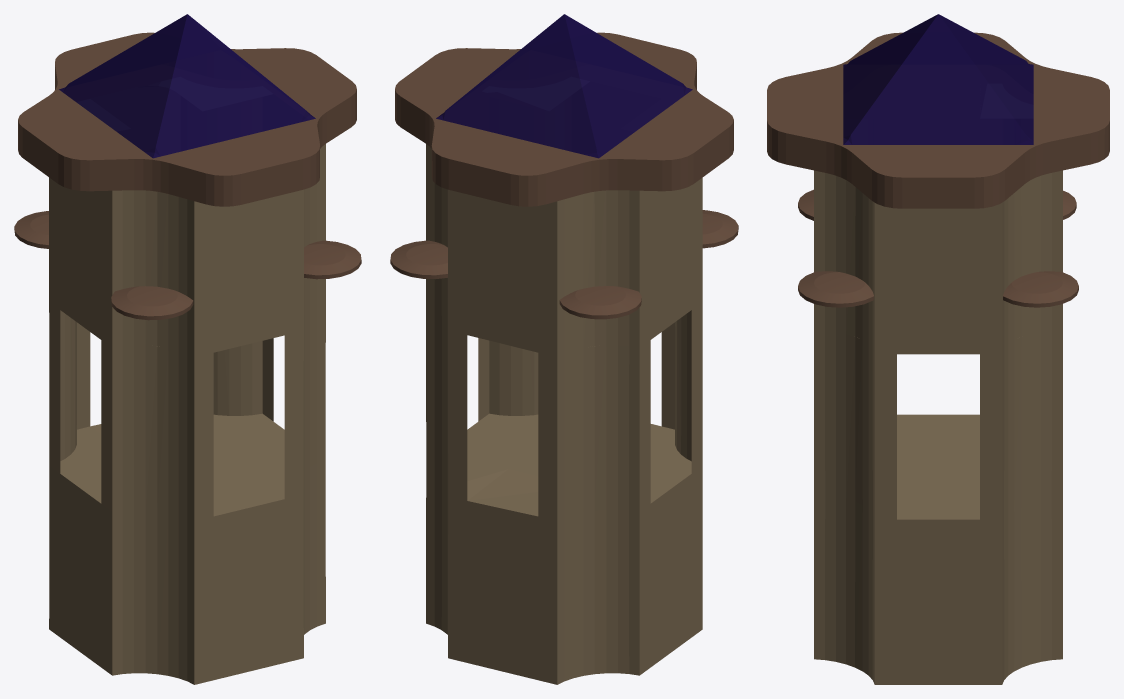
Rendered from ShortPyramid.fbx.
The picture shows the model from 3 angles, left to right: view 1: azimuth 30°, elevation 25°; view 2: azimuth 150°, elevation 25°; view 3: azimuth 270°, elevation 25°; orthographic projection.
Visible parts, largest first — view 1: pCube4, pSphere14, pSphere15, pSphere12; view 2: pCube4, pSphere12, pSphere13, pSphere14; view 3: pCube4, pSphere15, pSphere13.
Part boxes in pixels (x1,y1,x2,y2): pCube4: (18, 14, 356, 684); pSphere14: (111, 286, 193, 320); pSphere15: (304, 240, 361, 279); pSphere12: (14, 211, 48, 248); pCube4: (395, 14, 733, 684); pSphere12: (559, 286, 641, 319); pSphere13: (390, 240, 447, 279); pSphere14: (702, 210, 738, 248); pCube4: (767, 14, 1109, 684); pSphere15: (798, 271, 873, 307); pSphere13: (1003, 271, 1078, 307).
Bounding box in the file's own units: 12.41 × 24.7 × 12.41.
